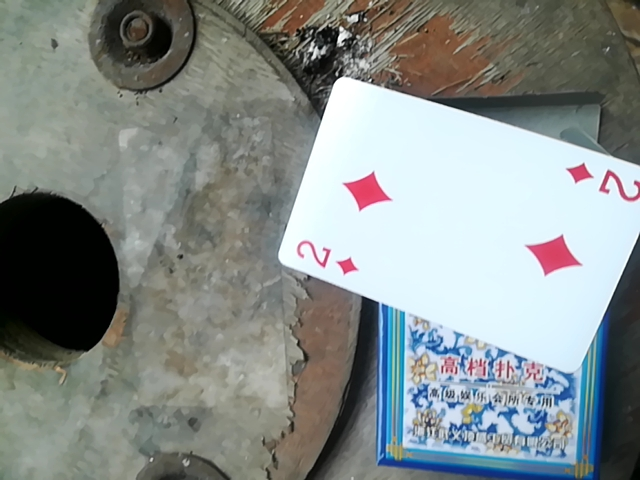fk 2: (272, 78, 637, 383)
